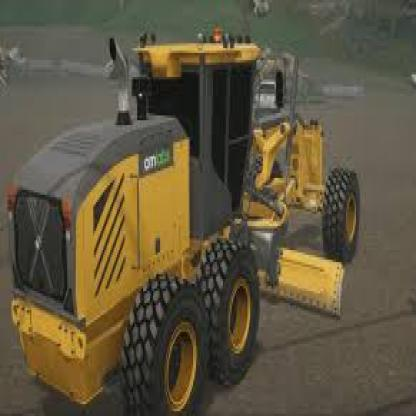bull_dozer/loader/grader: (4, 17, 402, 401)
